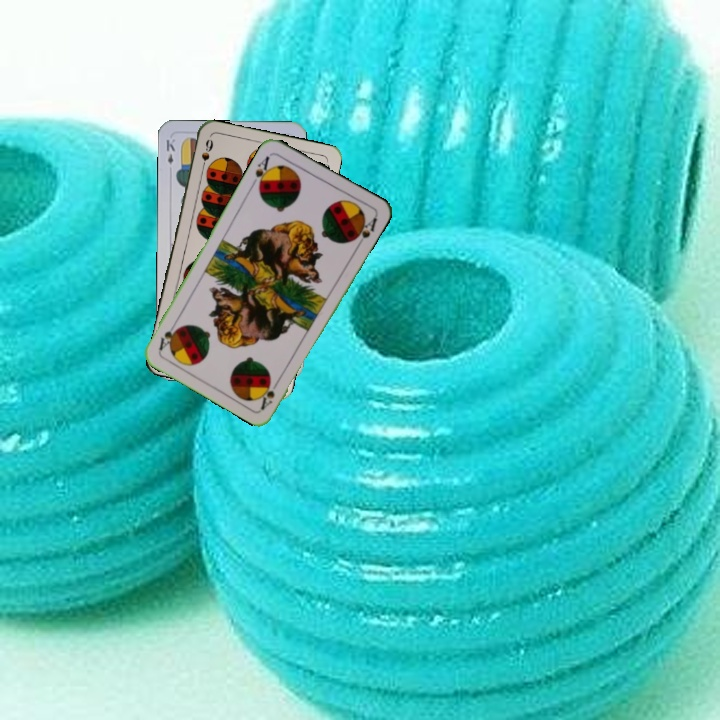EK: (162, 135, 177, 167)
S9: (197, 135, 216, 175)
SA: (247, 152, 274, 192), (257, 374, 283, 412)
